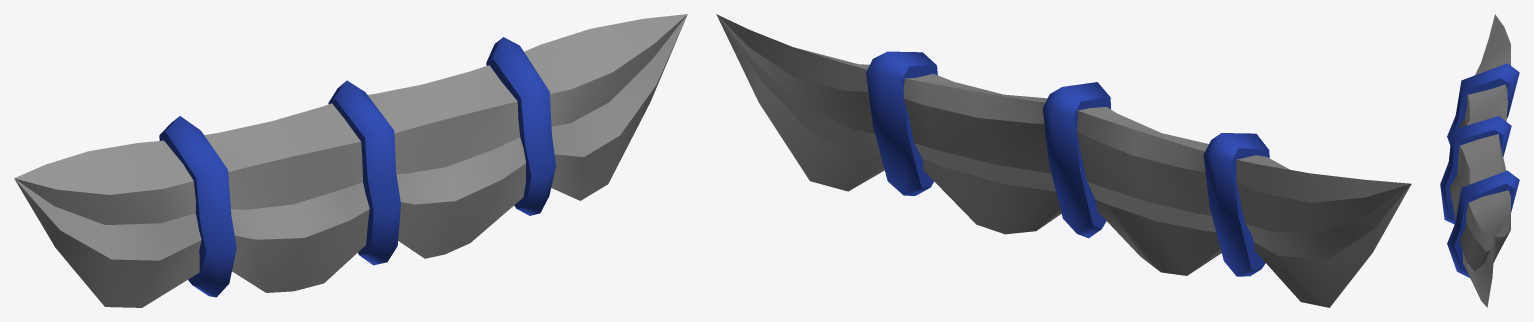
File: Sail_Folded_Big_mm.fbx
3 views of the same model, side by side, from view 1: azimuth 30°, elevation 25°; view 2: azimuth 150°, elevation 25°; view 3: azimuth 270°, elevation 25° (orthographic). The views are drawn at different scales.
Parts seen in each view (by area): view 1: Sail_Folded_Big; view 2: Sail_Folded_Big; view 3: Sail_Folded_Big.
Part boxes in pixels (x1,y1,x2,y2): Sail_Folded_Big: (14, 14, 687, 307); Sail_Folded_Big: (716, 14, 1411, 307); Sail_Folded_Big: (1440, 14, 1519, 307).
Bounding box in the file's own units: 432 × 108 × 65.02.
